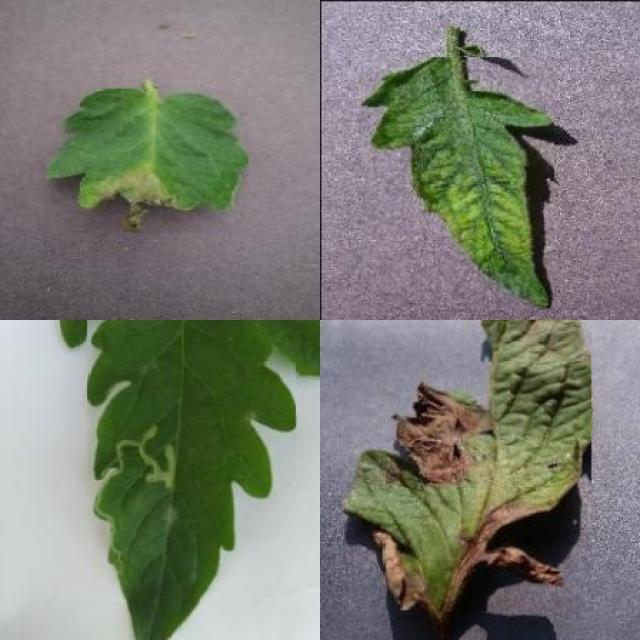Late Blight: (342, 320, 592, 611), (45, 88, 248, 233)
Leaf Miner: (87, 320, 296, 640)
Mosaic Virus: (360, 57, 554, 309)
